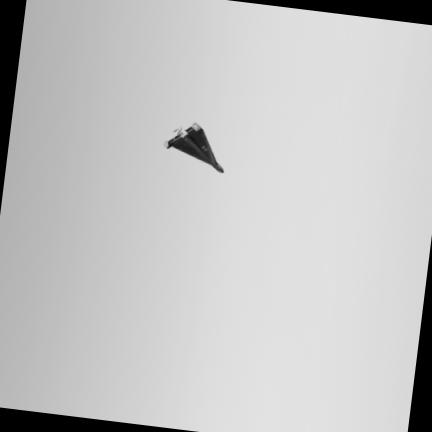Shahed: (162, 123, 222, 172)
